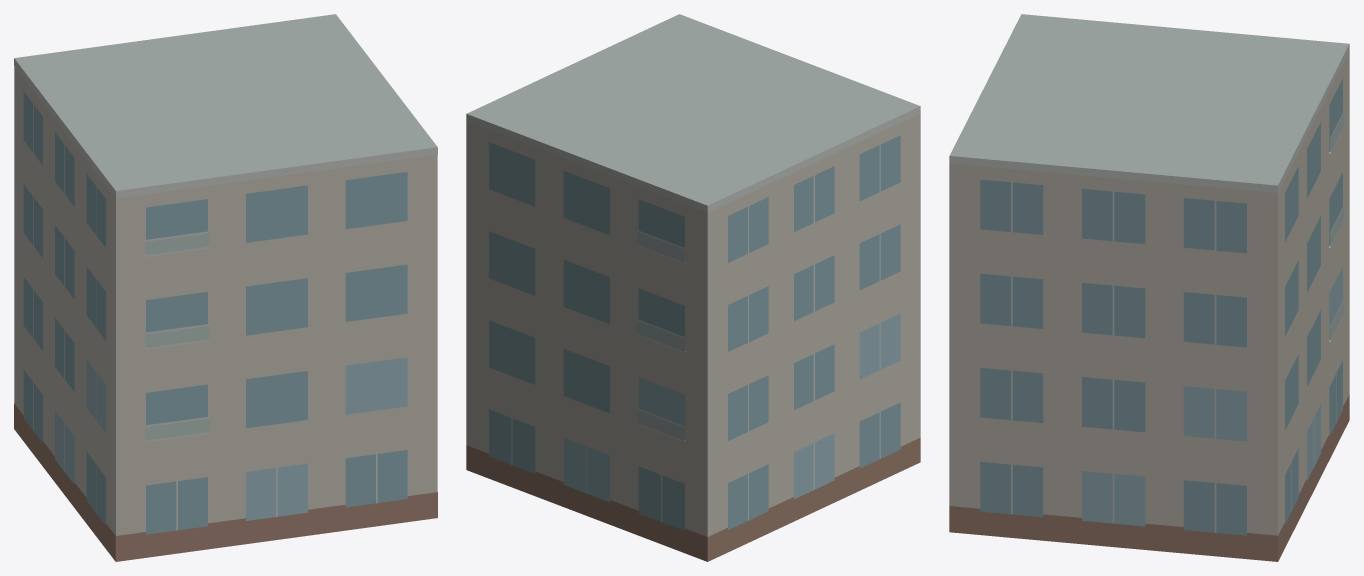
Rendered from residential-8ca82757-d600-4293-8cf5-5119ad23b7e0.glb.
3 views of the same model, side by side, from view 1: azimuth 30°, elevation 25°; view 2: azimuth 150°, elevation 25°; view 3: azimuth 270°, elevation 25° (orthographic). The views are drawn at different scales.
Visible parts, largest first — view 1: residential-8ca82757-d600-4293-8cf5-5119ad23b7e0.tmp; view 2: residential-8ca82757-d600-4293-8cf5-5119ad23b7e0.tmp; view 3: residential-8ca82757-d600-4293-8cf5-5119ad23b7e0.tmp.
Boxes of the visible parts, x1,y1,x2,y2 form: residential-8ca82757-d600-4293-8cf5-5119ad23b7e0.tmp: (14, 14, 437, 561); residential-8ca82757-d600-4293-8cf5-5119ad23b7e0.tmp: (466, 14, 920, 561); residential-8ca82757-d600-4293-8cf5-5119ad23b7e0.tmp: (949, 14, 1349, 561).
Size of the model in its own units: 11.94 by 12.2 by 11.77.
